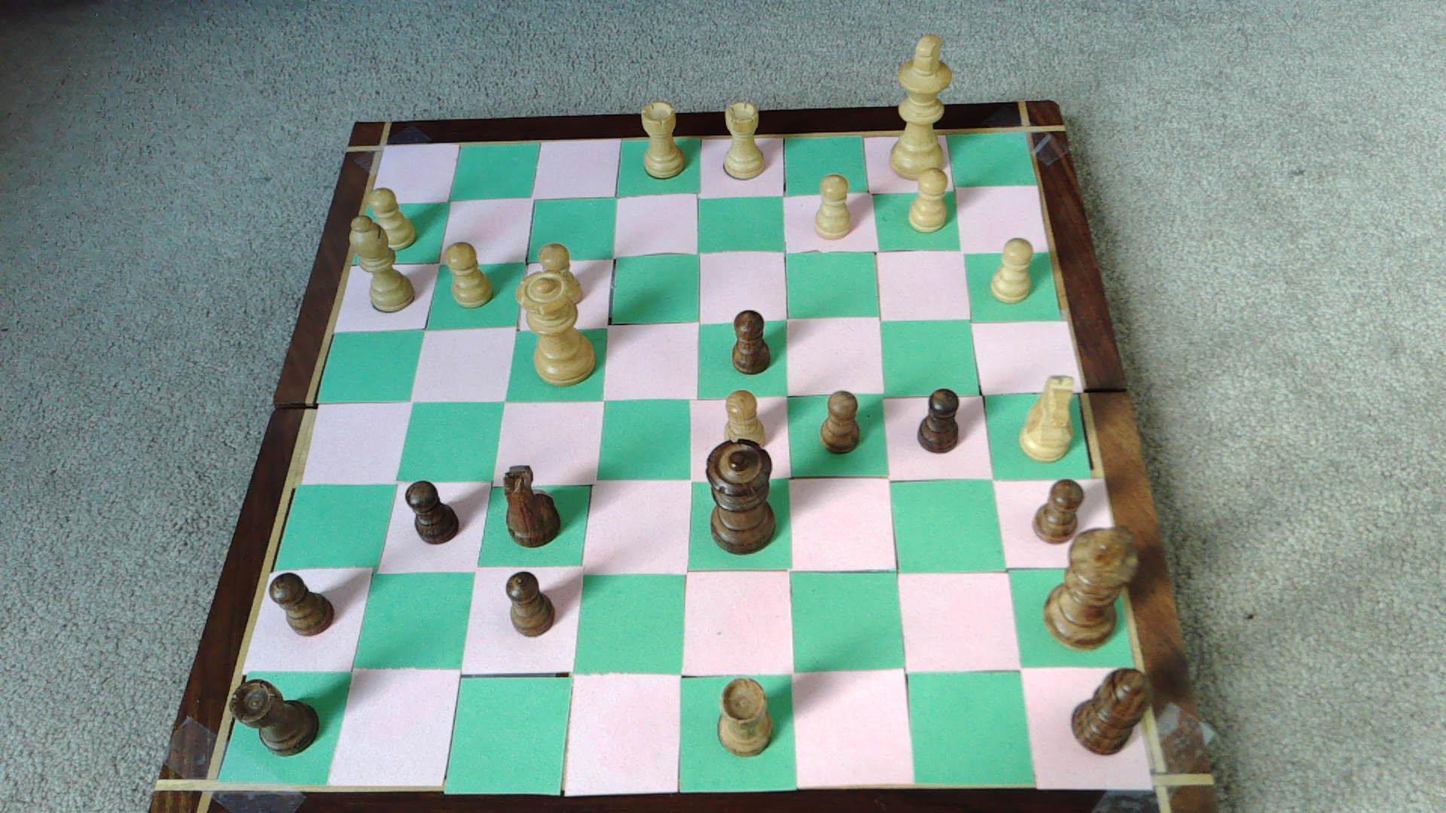dark_piece: (1044, 528, 1138, 647), (707, 440, 775, 553), (231, 679, 319, 754), (1070, 669, 1147, 754), (503, 465, 560, 548), (718, 676, 773, 755), (270, 572, 334, 635), (406, 481, 458, 544), (1032, 480, 1084, 543), (505, 571, 553, 636), (917, 388, 959, 452), (820, 391, 860, 453), (732, 310, 770, 374)
white_piece: (889, 33, 953, 180), (517, 274, 594, 386), (349, 214, 415, 312), (1020, 375, 1075, 461), (641, 100, 686, 178), (723, 100, 767, 179), (363, 188, 417, 250), (445, 242, 493, 307), (539, 243, 585, 305), (990, 237, 1033, 303), (909, 171, 951, 234), (724, 390, 767, 448), (814, 174, 852, 239)
